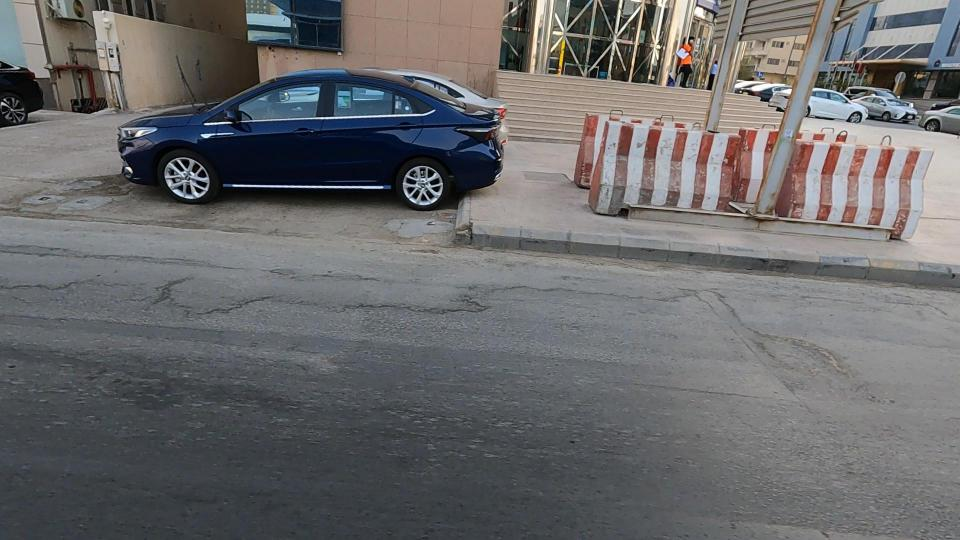POTHOLES: (316, 227, 601, 393), (693, 261, 926, 449), (97, 235, 295, 371)
